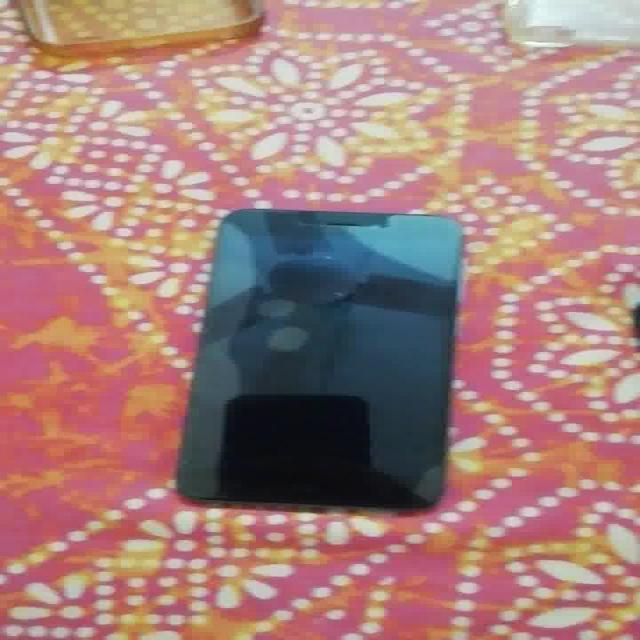Phone: (176, 207, 467, 516)
